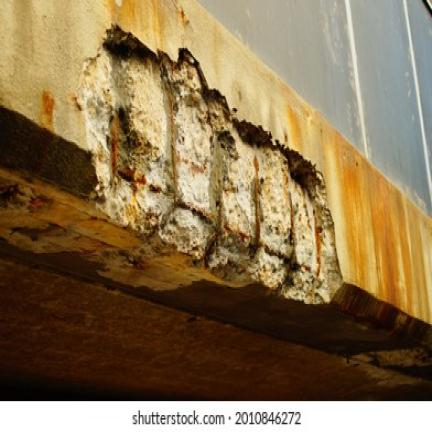karat: (148, 158, 296, 271)
